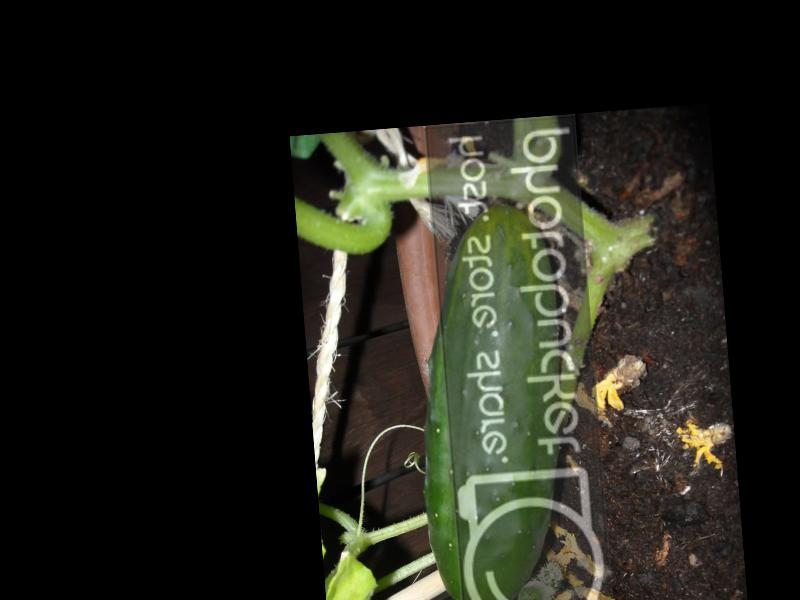Cucumber: (404, 201, 583, 600)
